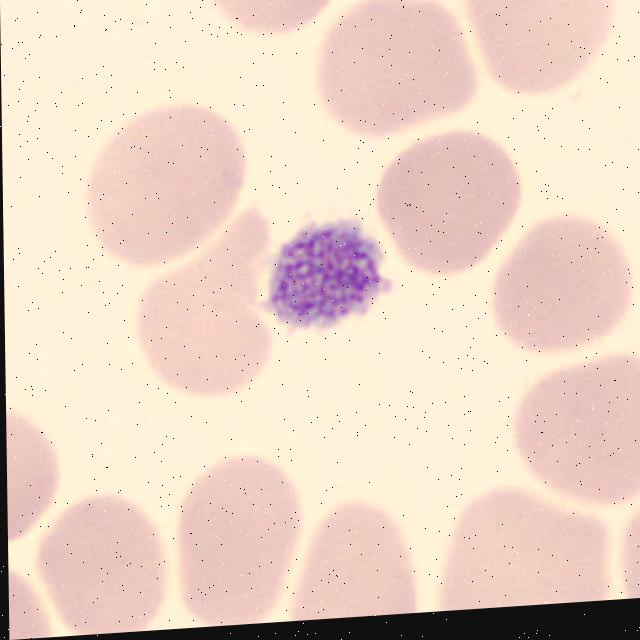platelets: (259, 212, 390, 341)
rbc: (129, 204, 291, 403), (73, 107, 250, 277), (370, 132, 533, 289), (169, 455, 309, 629), (312, 0, 481, 143), (503, 344, 640, 519), (424, 491, 619, 612), (487, 212, 635, 361), (284, 487, 442, 622), (40, 487, 179, 638), (468, 0, 628, 109), (184, 0, 348, 57), (6, 412, 64, 546), (604, 486, 640, 600), (8, 560, 49, 640), (356, 0, 493, 9)
